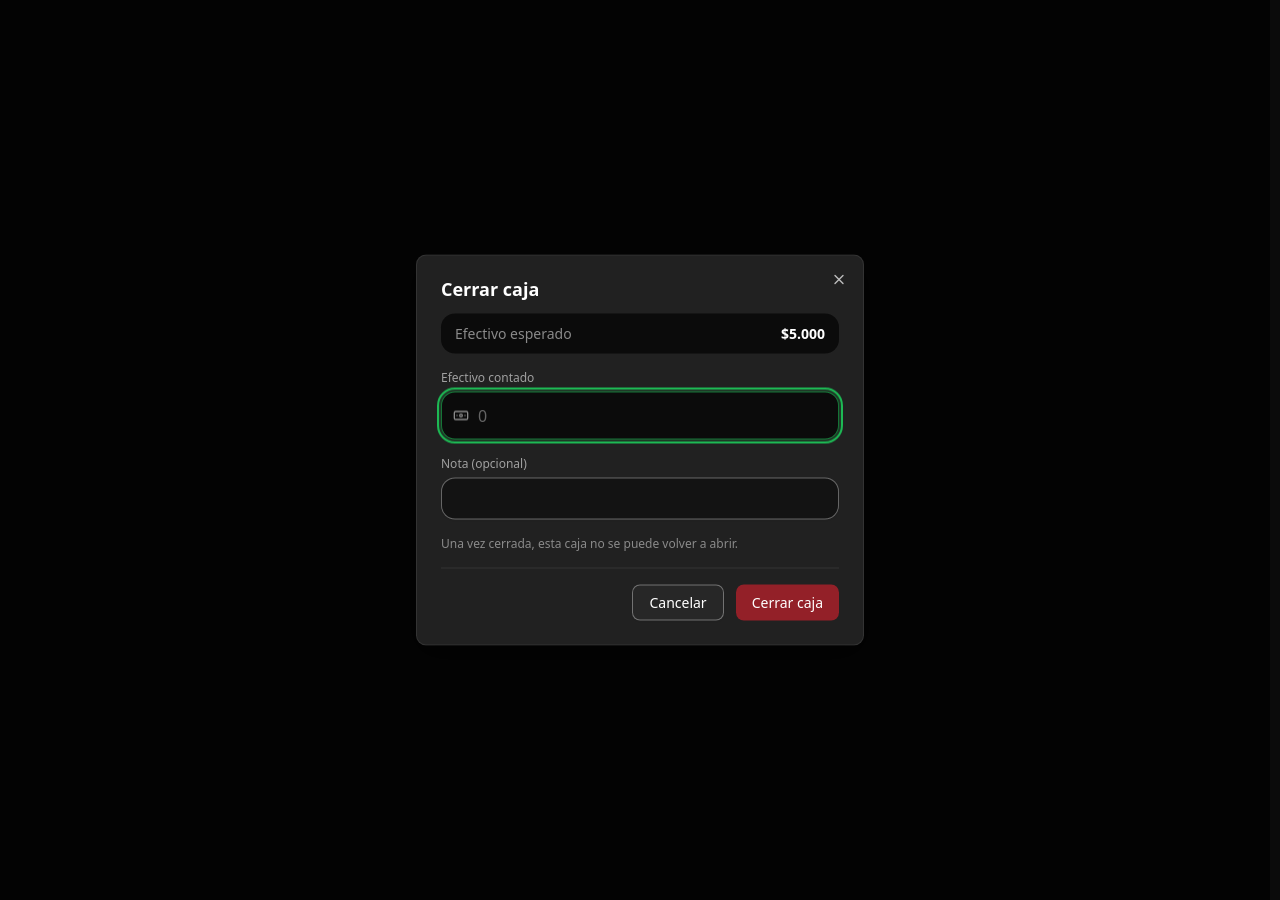
Test: CloseCashSessionDialog — live difference › shows sobrante live as soon as counted exceeds expected
This screenshot has width=1280, height=900.
Type "5500" into the field labelled "Efectivo contado" at (640, 416), box x1=441 y1=392 x2=839 y2=440
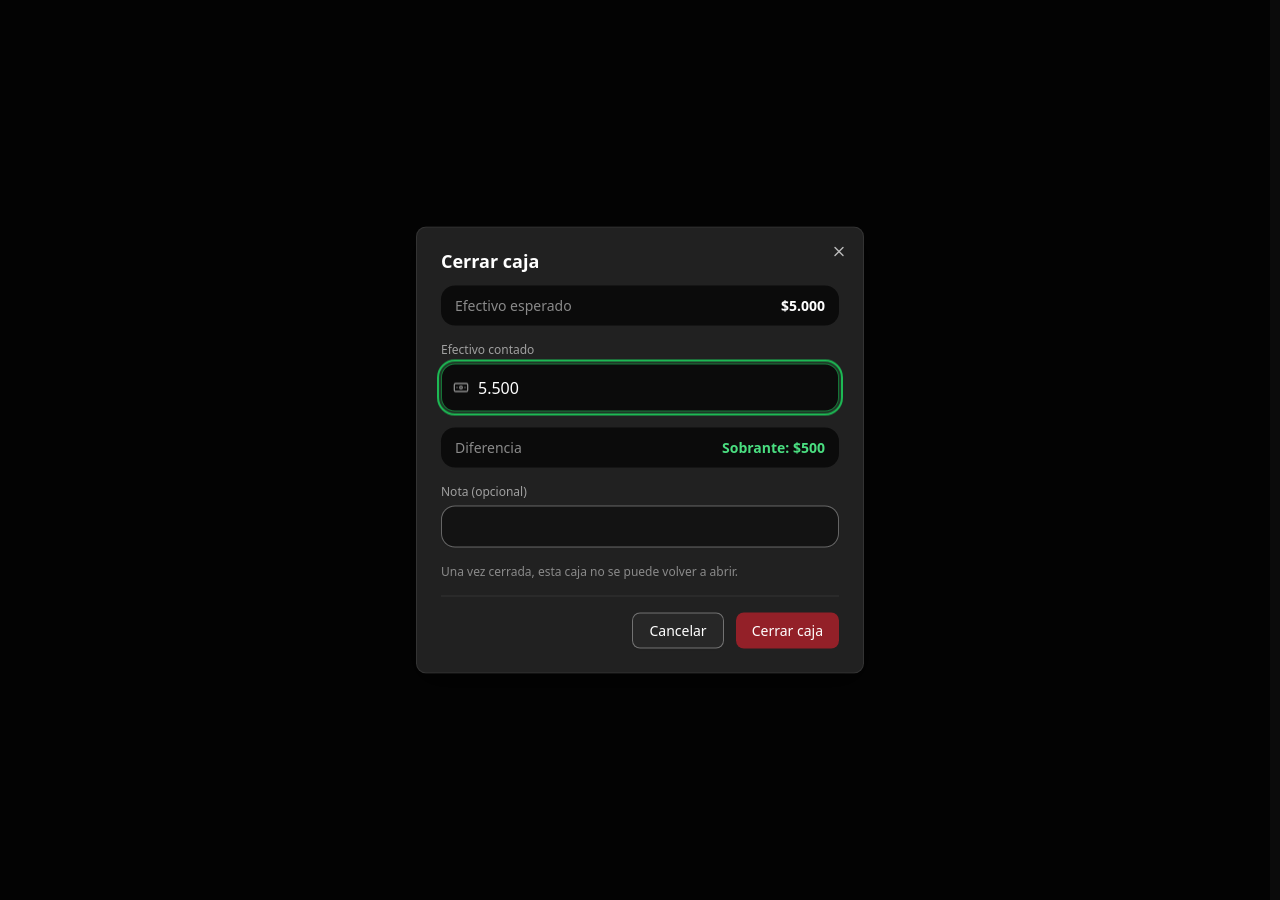
Result: the text "Sobrante: $500" is shown at x1=722 y1=438 x2=825 y2=458
